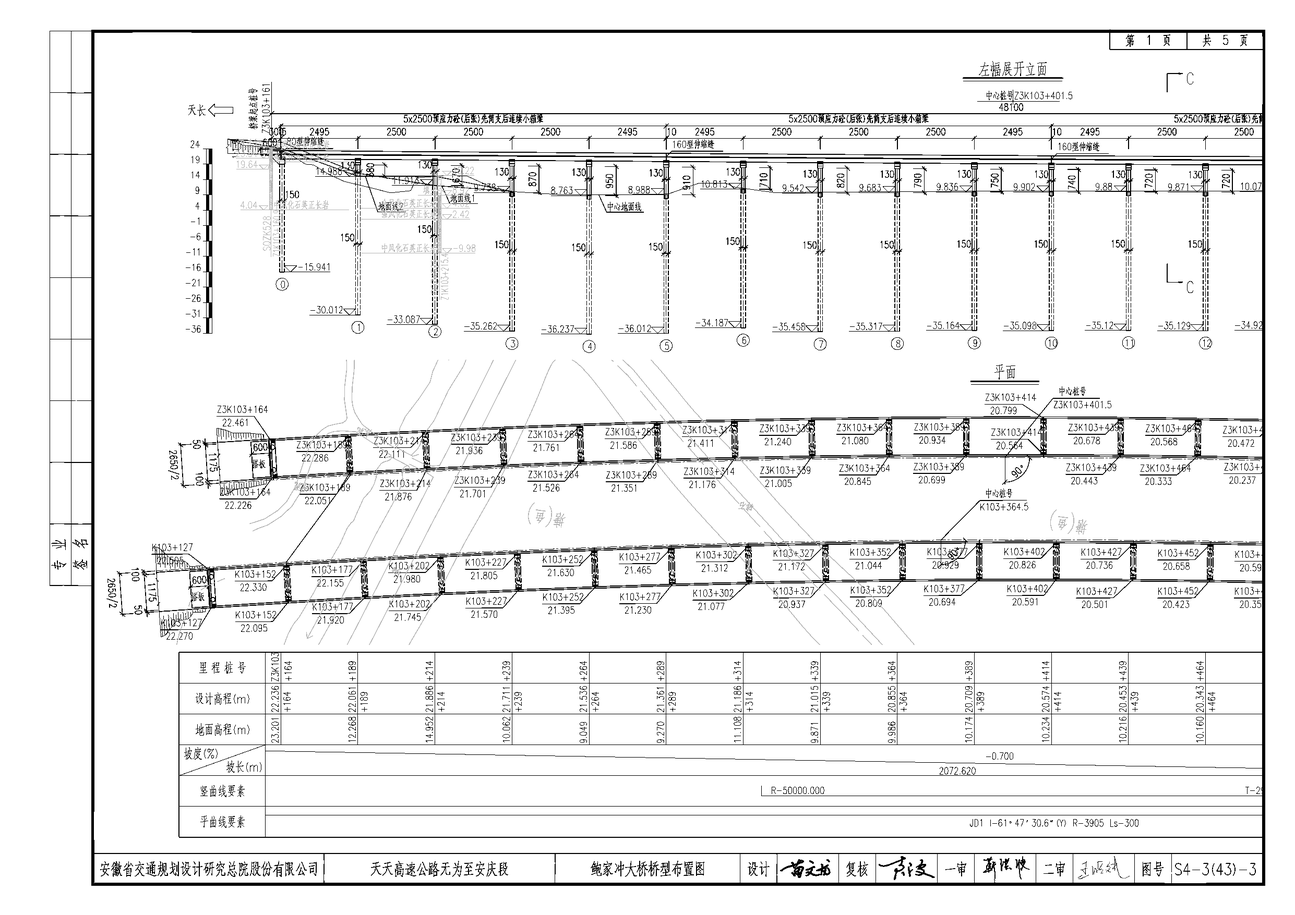A: (167, 55, 1270, 367)
